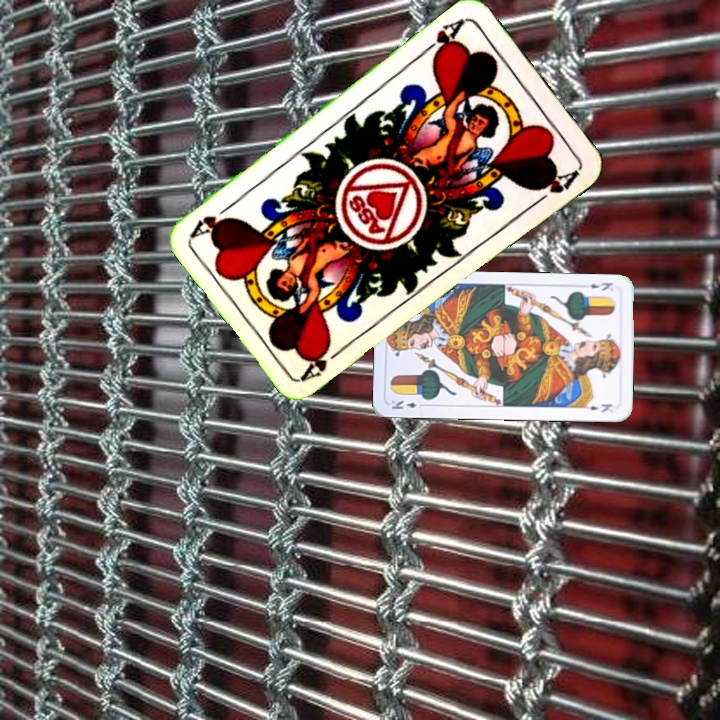EK: (387, 396, 428, 412), (586, 278, 615, 293)
HA: (417, 14, 467, 62), (298, 340, 350, 383)
